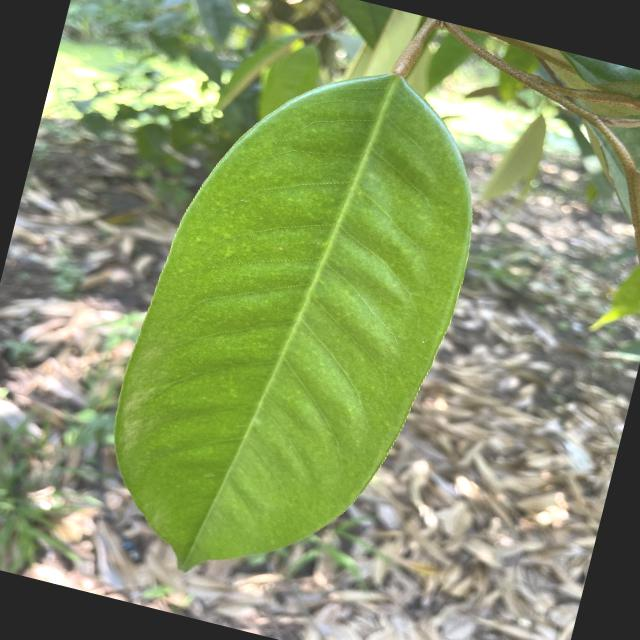No Disease: (68, 18, 512, 622)
